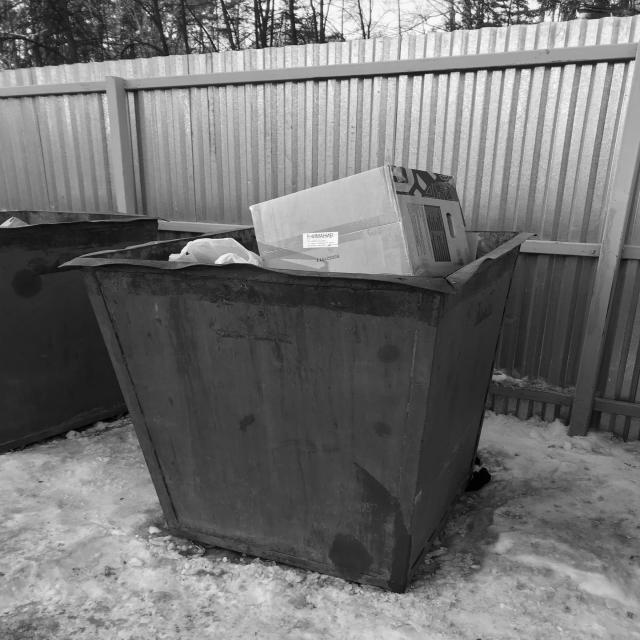Trashcan: (58, 134, 540, 609)
